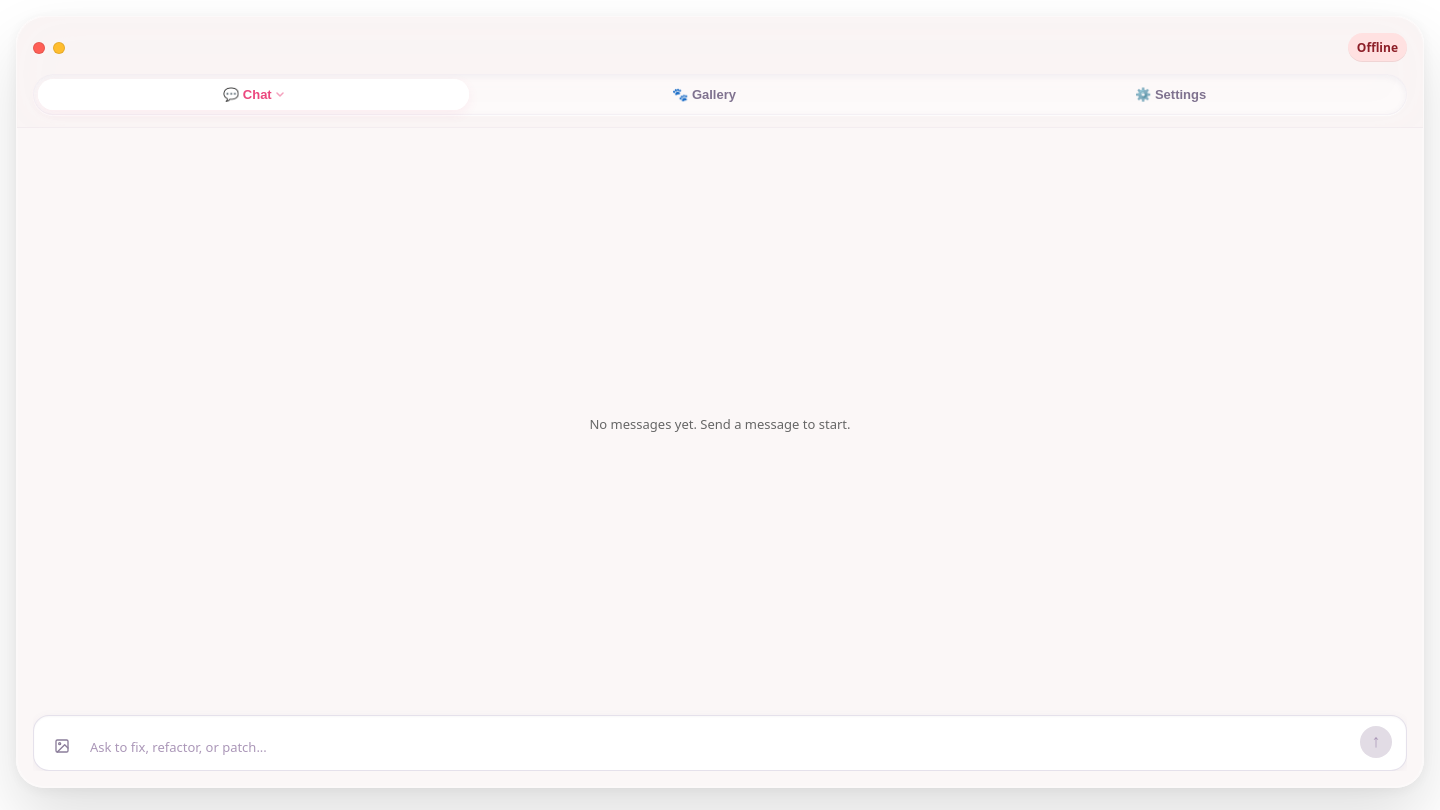
Scenario: hydrateAndReconnectActiveProfile › shows a unified prompt-first panel with collapsible settings groups
Expected: the button "Send" is shown, [1360,726,1392,758]
Note: Switch to Setup tab
Click the button "⚙️ Settings" at point(1171, 94), box [939,79,1402,110]
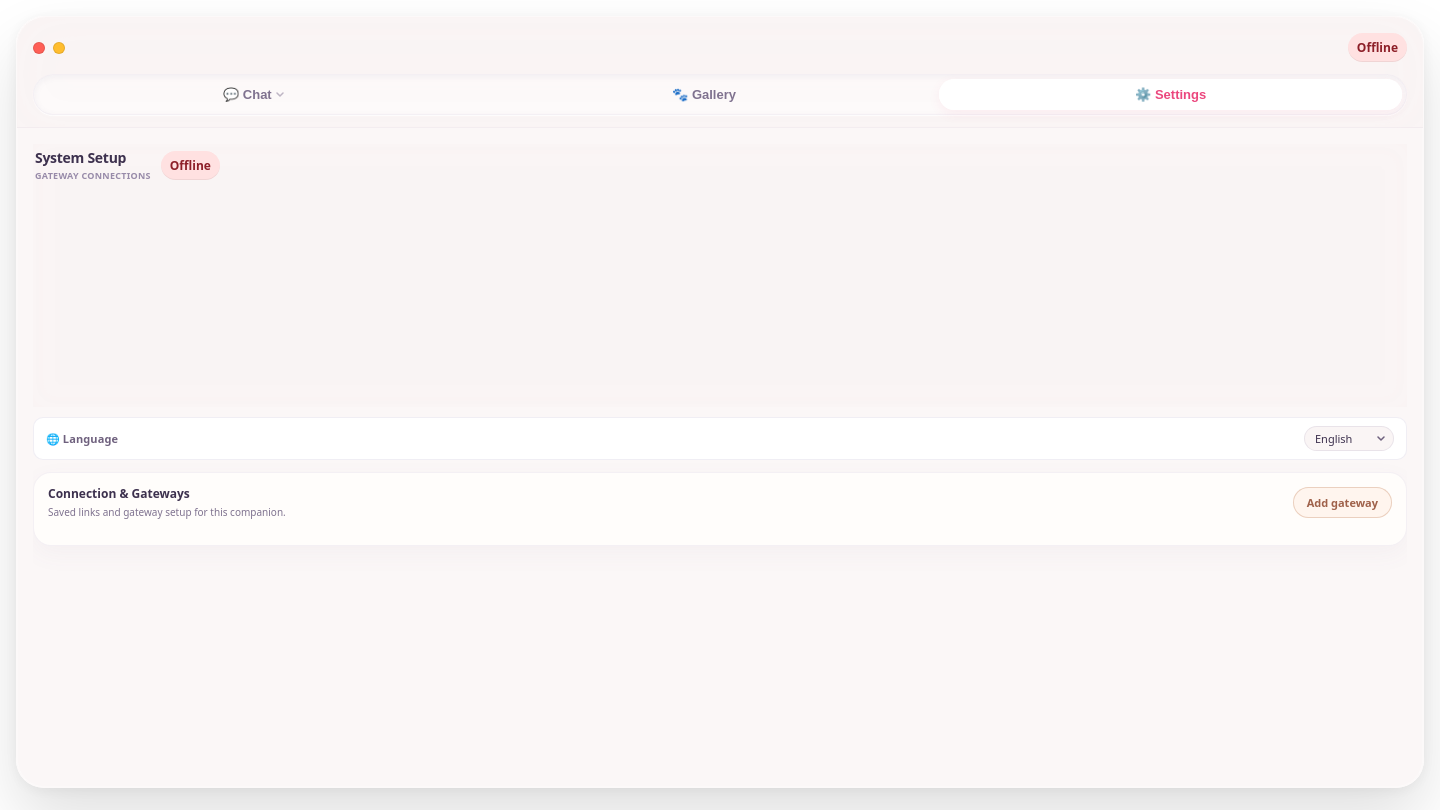
Now the heading "Connection & Gateways" is shown, box [48,485,190,502]
Click the button "Add gateway" at point(1342, 502), box [1293,487,1392,518]
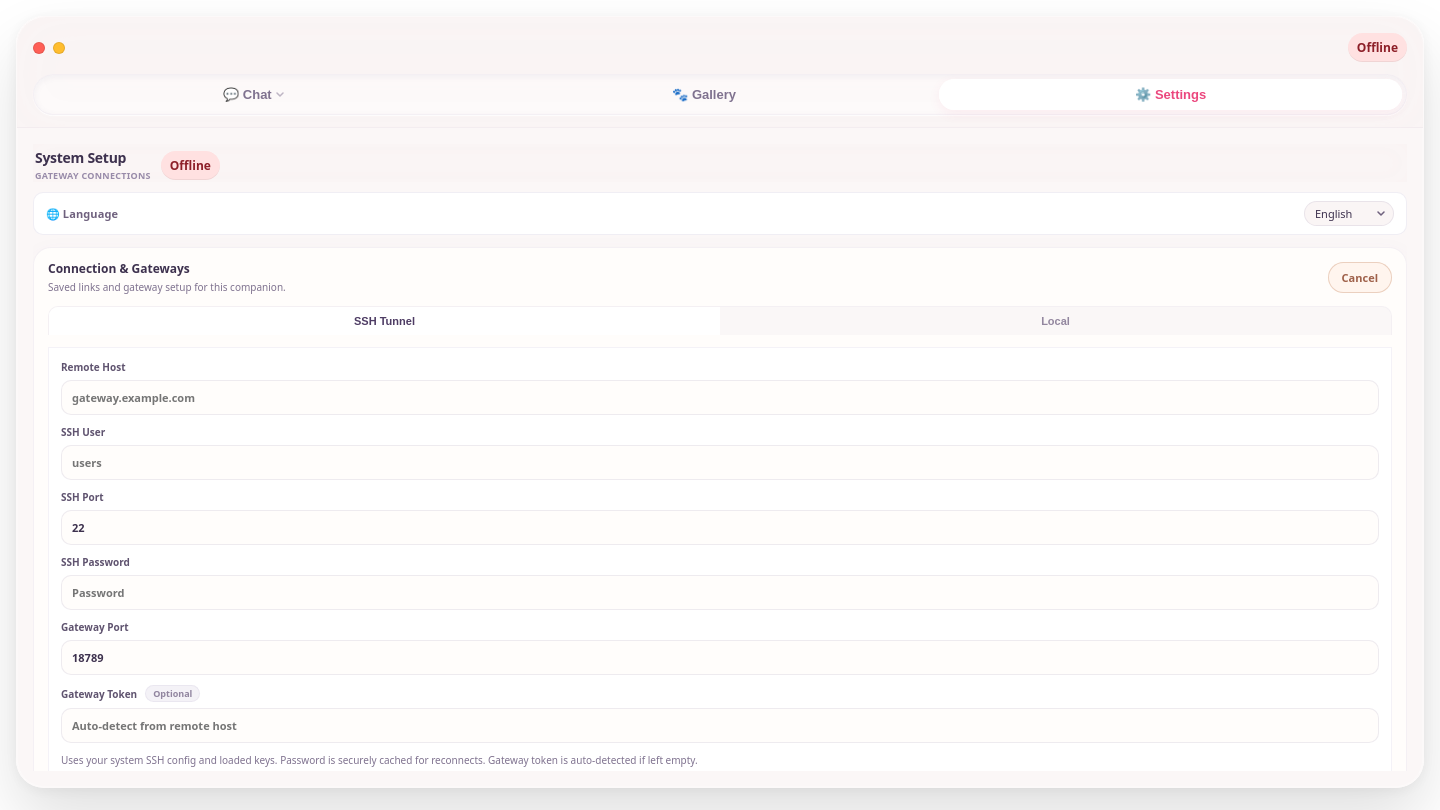
Now the number field labelled "Gateway Port" is shown, box [61,640,1379,675]
Now the password field labelled "Gateway Token" is shown, box [61,708,1379,743]
